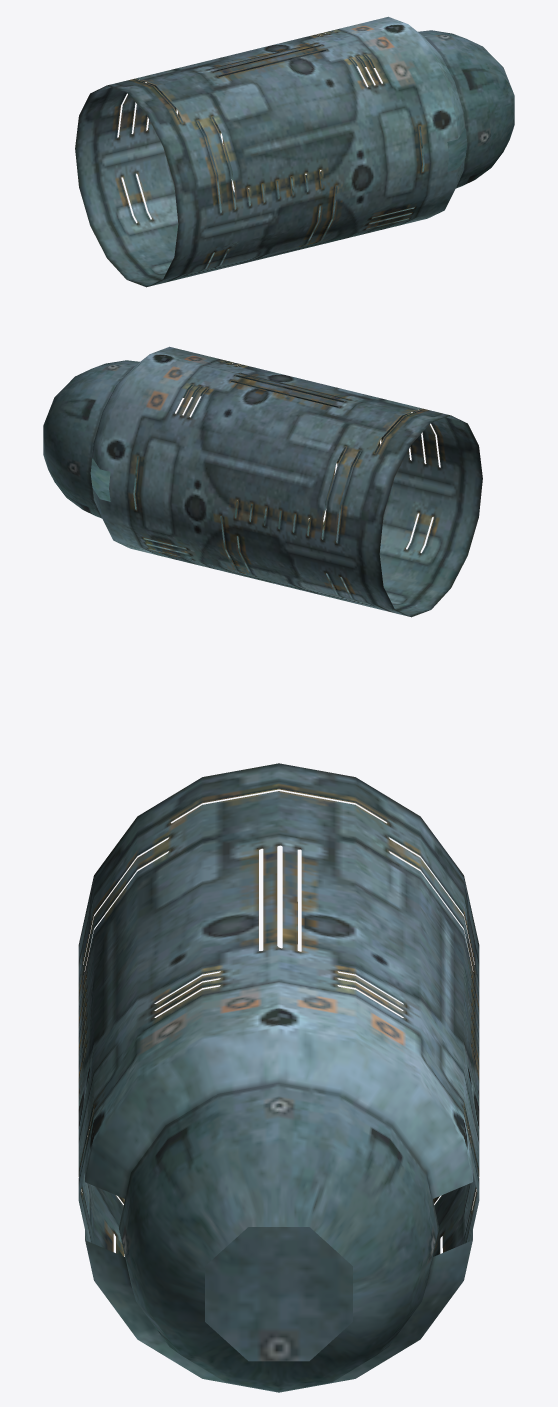
File: ship_component_engine_s01_l1.fbx
3 views of the same model, one above another, from view 1: azimuth 30°, elevation 25°; view 2: azimuth 150°, elevation 25°; view 3: azimuth 270°, elevation 25° (orthographic). The views are drawn at different scales.
Parts seen in each view (by area): view 1: mesh_node; view 2: mesh_node; view 3: mesh_node.
Part boxes in pixels (x1,y1,x2,y2): mesh_node: (75, 16, 514, 287); mesh_node: (43, 346, 482, 617); mesh_node: (78, 763, 479, 1392).
Bounding box in the file's own units: 2.8 × 1.19 × 1.32.
